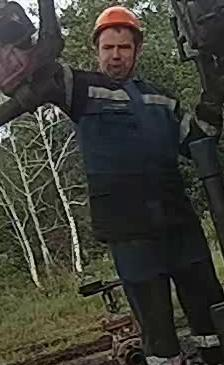helmet: (91, 5, 143, 47)
vest: (68, 67, 187, 242)
